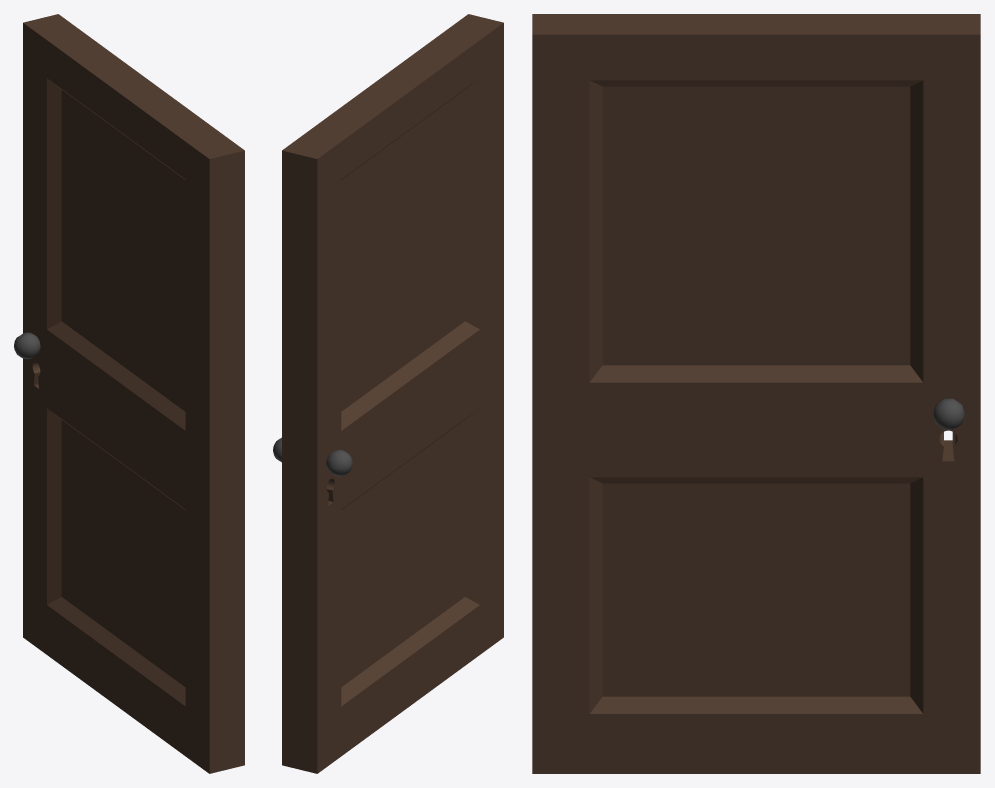
Rendered from S_Door.fbx.
The picture shows the model from 3 angles, left to right: view 1: azimuth 30°, elevation 25°; view 2: azimuth 150°, elevation 25°; view 3: azimuth 270°, elevation 25°; orthographic projection. The views are drawn at different scales.
Visible parts, largest first — view 1: S_Door; view 2: S_Door; view 3: S_Door.
Part boxes in pixels (x1,y1,x2,y2): S_Door: (14,14,244,773); S_Door: (273,14,503,773); S_Door: (532,14,980,773).
Bounding box in the file's own units: 29.32 × 225 × 124.
